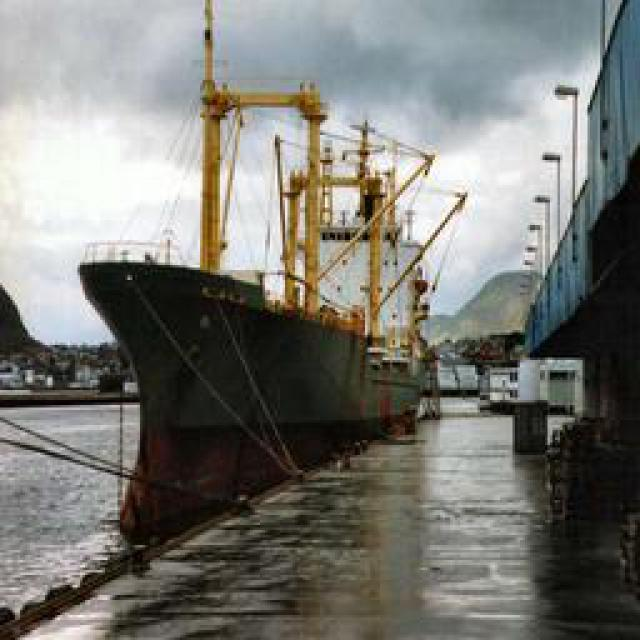Ship: (80, 50, 473, 533)
